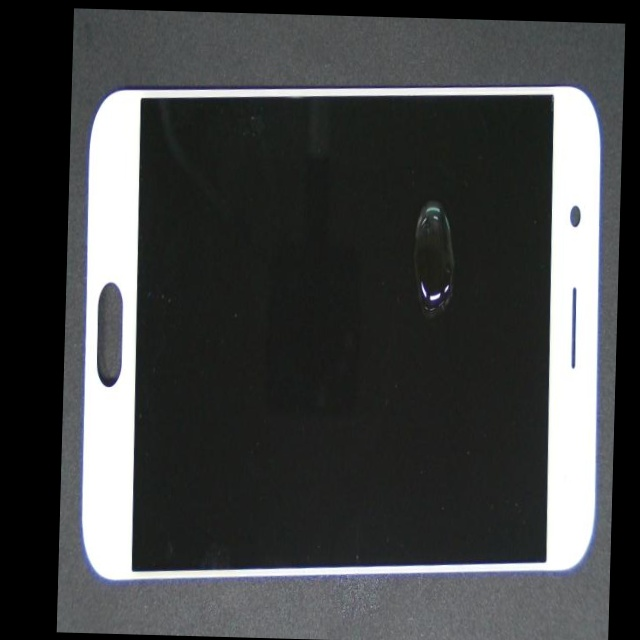oil: (264, 185, 621, 388)
